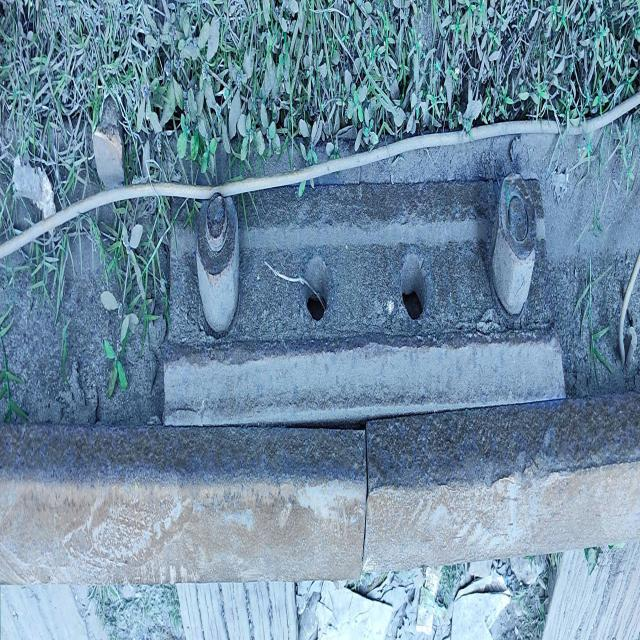Defective Joint: (161, 172, 572, 435)
